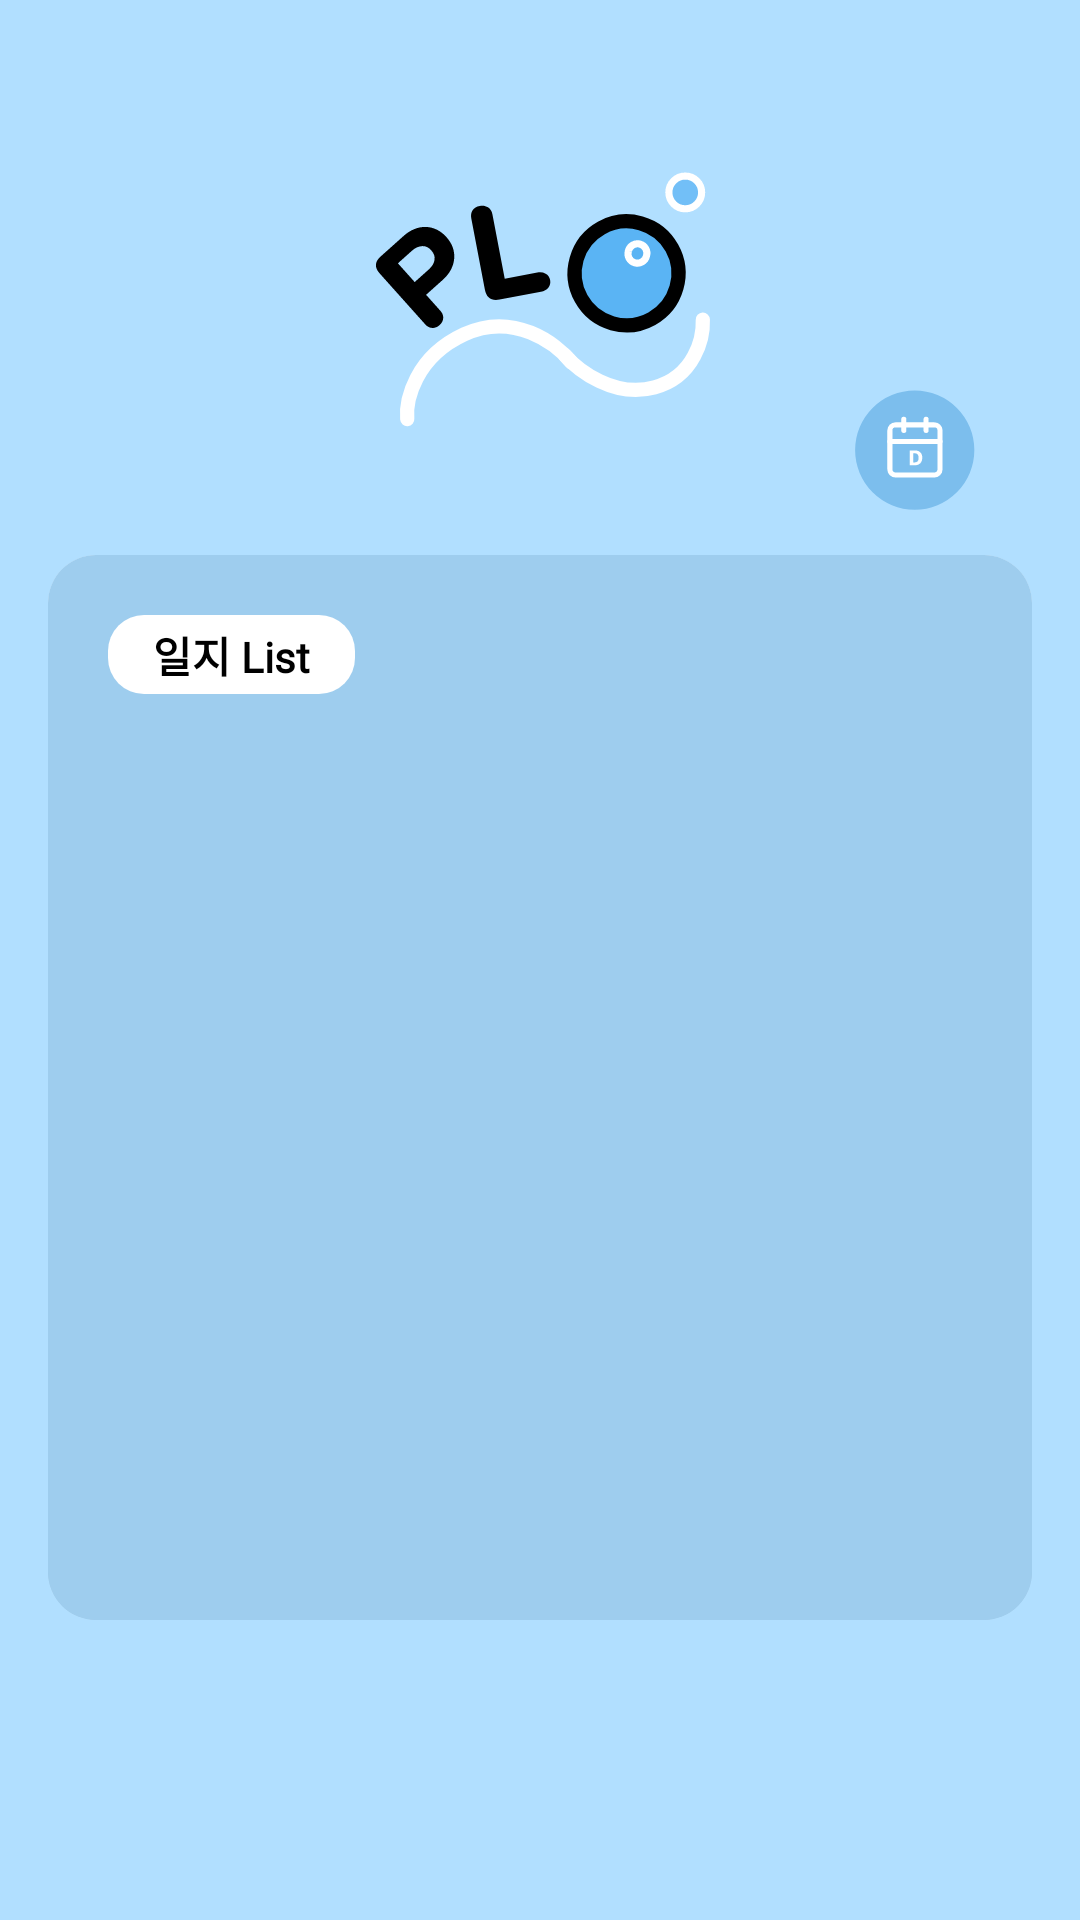

Screen size 1080px×1920px. Icon name, then its box in pixels as (x1, y1, x2, y2):
app: (376, 172, 710, 426)
list to journal: (855, 390, 974, 510)
